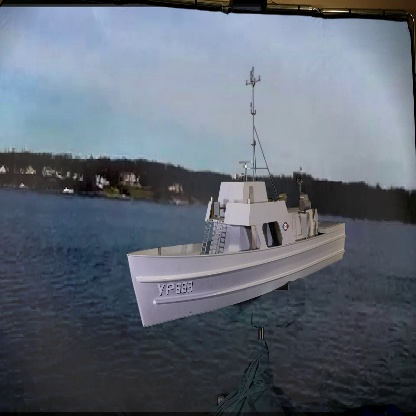YP689: (123, 66, 350, 326)
